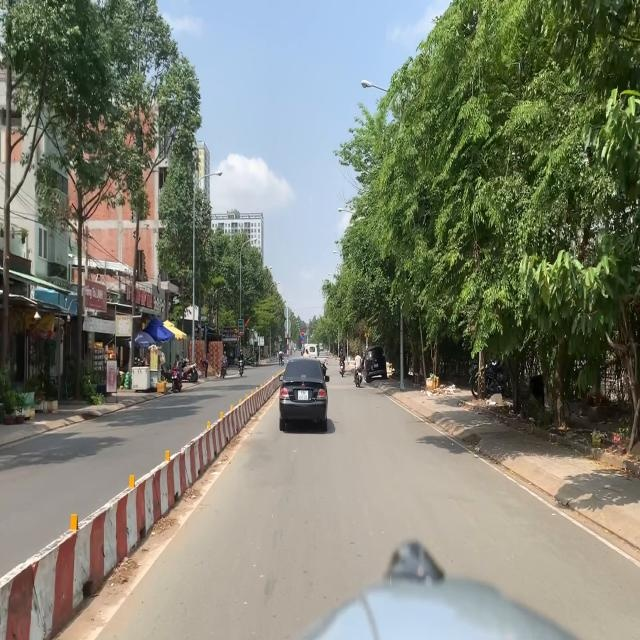bien_nguy_hiem: (301, 330, 304, 335), (302, 336, 304, 340)
